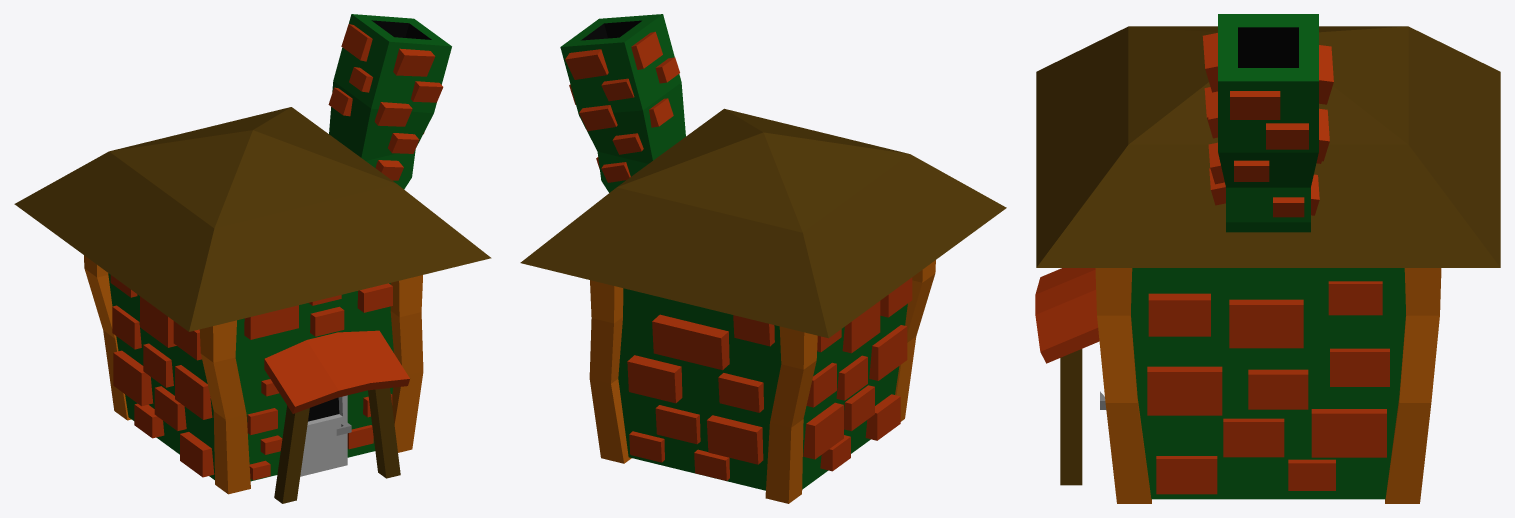
File: CasinhahumindeVerde.fbx
3 views of the same model, side by side, from view 1: azimuth 30°, elevation 25°; view 2: azimuth 150°, elevation 25°; view 3: azimuth 270°, elevation 25° (orthographic). The views are drawn at different scales.
Visible parts, largest first — view 1: CasinhahumindeVerde; view 2: CasinhahumindeVerde; view 3: CasinhahumindeVerde.
Boxes of the visible parts, bbox=[...] form: CasinhahumindeVerde: bbox=[14, 14, 491, 503]; CasinhahumindeVerde: bbox=[520, 14, 1006, 503]; CasinhahumindeVerde: bbox=[1035, 14, 1500, 503].
Bounding box in the file's own units: 827 × 894 × 750.
